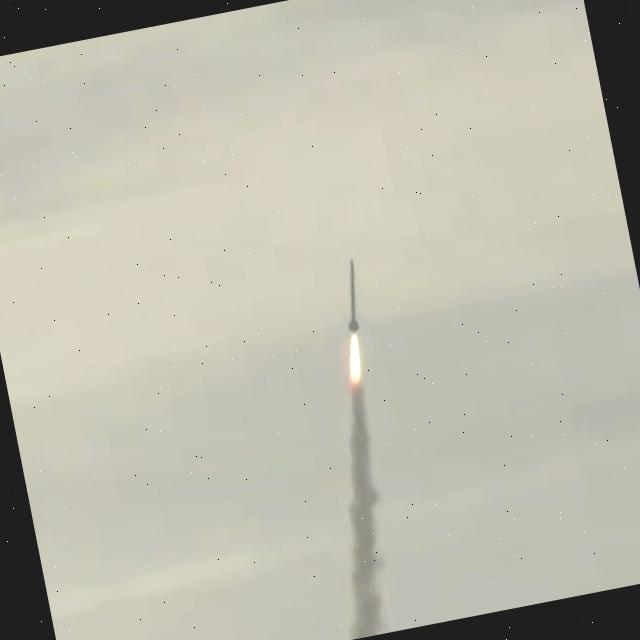smoke_trail_with_rocket: (344, 259, 384, 640)
